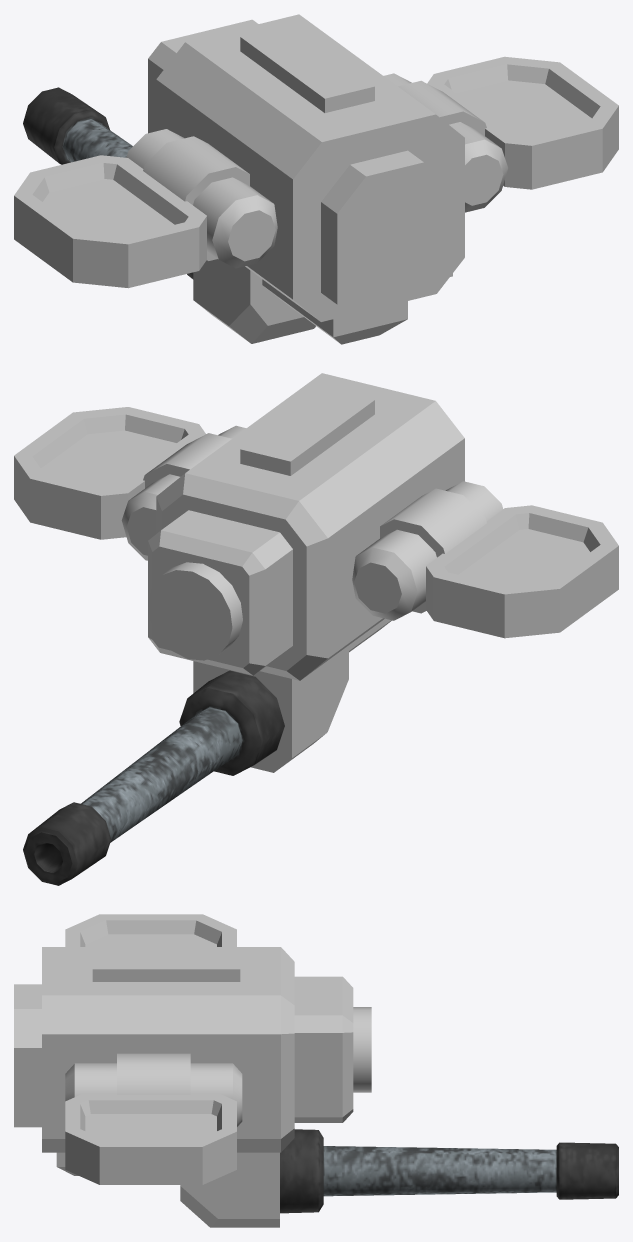
The model's file is GJ_Bot_Rifle.fbx.
3 renders of one model, top to bottom at view 1: azimuth 30°, elevation 25°; view 2: azimuth 150°, elevation 25°; view 3: azimuth 270°, elevation 25°, orthographic. The views are drawn at different scales.
Visible parts, largest first — view 1: GJ_Bot_Rifle; view 2: GJ_Bot_Rifle; view 3: GJ_Bot_Rifle.
Part boxes in pixels (x1,y1,x2,y2): GJ_Bot_Rifle: (14,14,618,344); GJ_Bot_Rifle: (14,373,618,885); GJ_Bot_Rifle: (14,914,618,1227).
Bounding box in the file's own units: 10.85 × 5.57 × 11.92.
